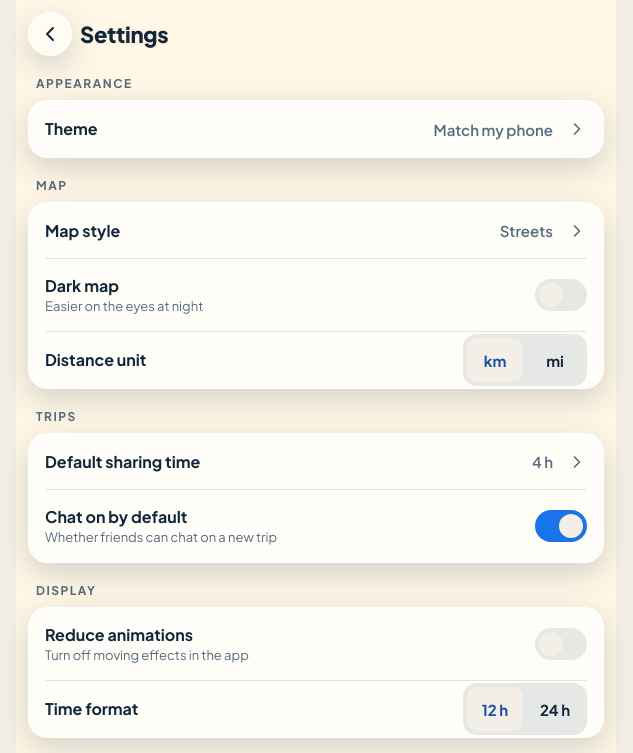
Test: Settings › puts a setting back and says so when it could not be saved
The image size is (633, 753).
Click the switch labelled "Dark map".
click(82, 286)  # box x1=45 y1=273 x2=587 y2=317
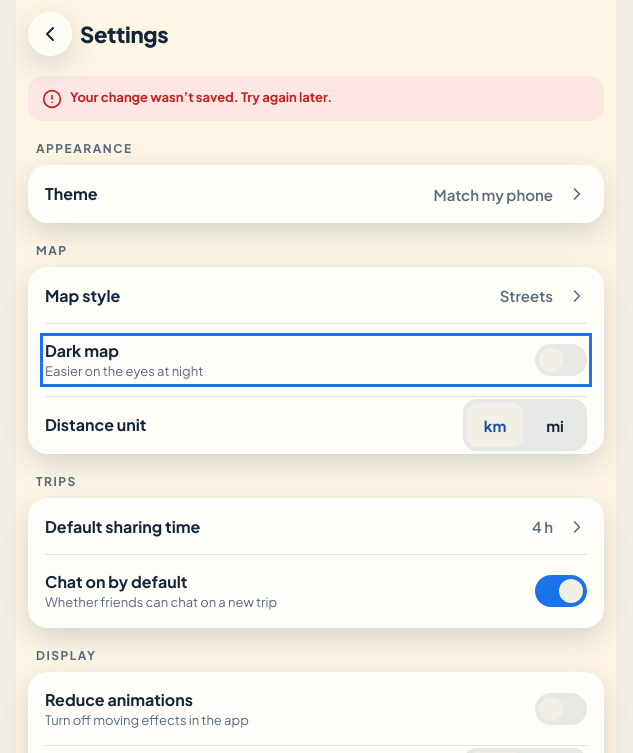
Expected: the switch labelled "Dark map" is not checked, x1=45 y1=338 x2=587 y2=382
Now the message shows "Your change wasn’t saved.", box x1=70 y1=89 x2=241 y2=105
